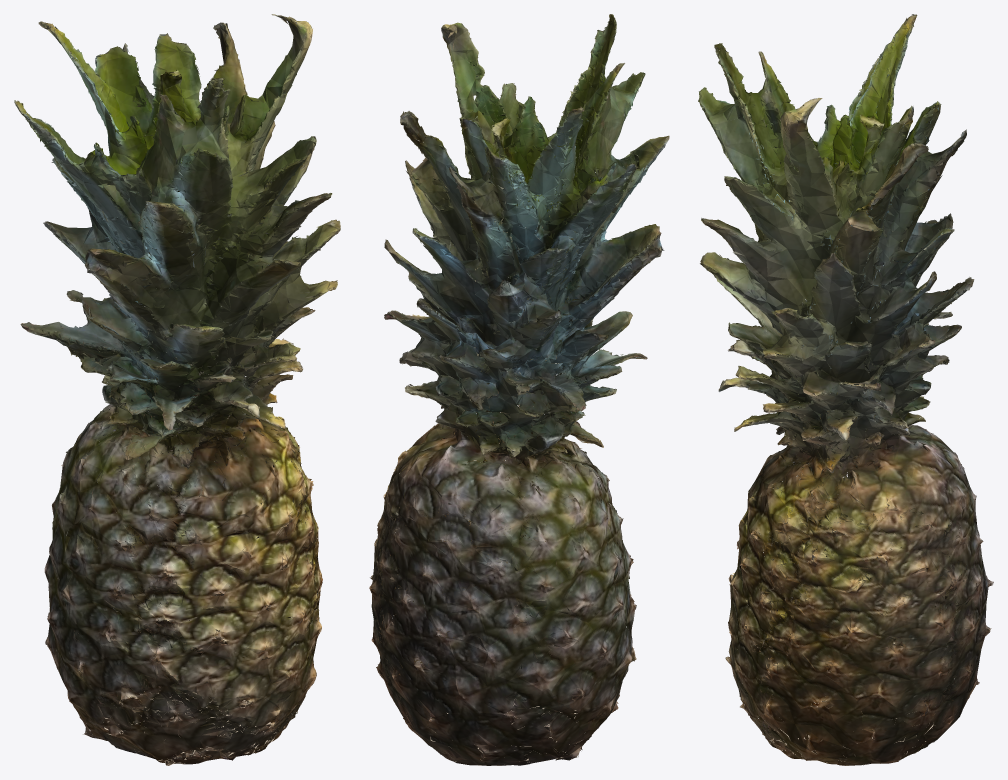
File: piña.glb
3 renders of one model, left to right at view 1: azimuth 30°, elevation 25°; view 2: azimuth 150°, elevation 25°; view 3: azimuth 270°, elevation 25°, orthographic. The views are drawn at different scales.
Parts seen in each view (by area): view 1: Object_4, Object_3, Object_5; view 2: Object_3, Object_4, Object_5; view 3: Object_3, Object_4, Object_5.
Boxes of the visible parts, x1,y1,x2,y2 form: Object_4: [15, 21, 321, 760]; Object_3: [14, 14, 340, 765]; Object_5: [47, 492, 322, 764]; Object_3: [375, 14, 669, 765]; Object_4: [369, 107, 664, 764]; Object_5: [389, 491, 636, 765]; Object_3: [698, 16, 990, 765]; Object_4: [706, 14, 993, 763]; Object_5: [725, 479, 975, 765].
Size of the model in its own units: 0.8407 by 2.05 by 0.8214.
Materials: 1 (1 with a texture image).
